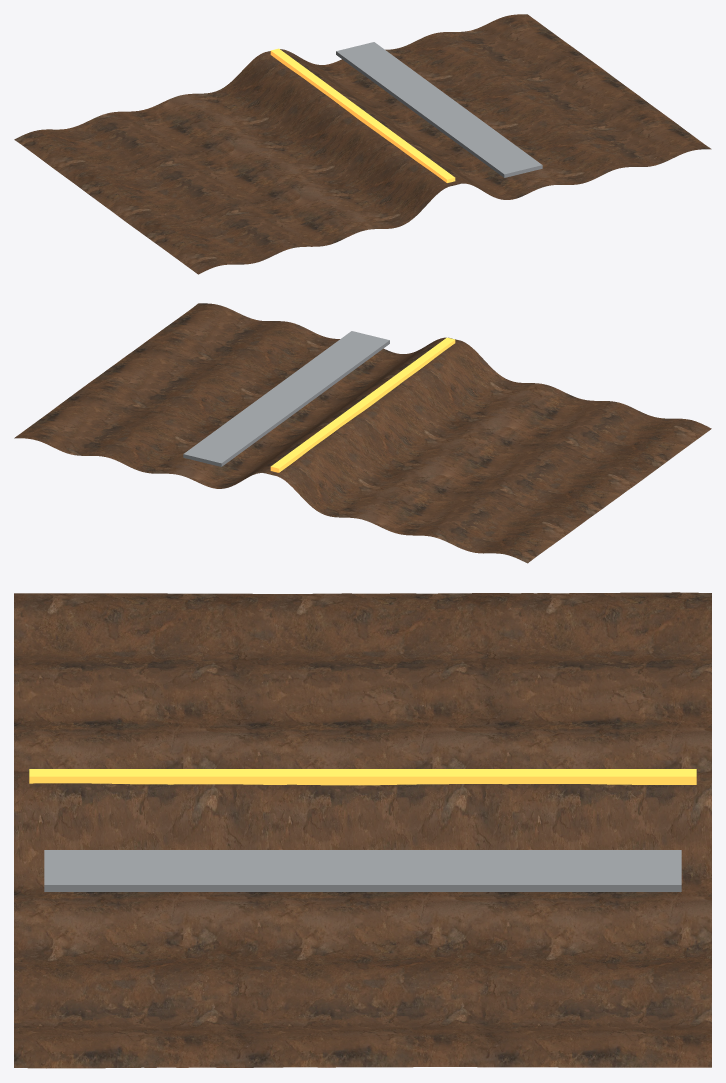
The model's file is seafloor-spreading.glb.
3 views of the same model, one above another, from view 1: azimuth 30°, elevation 25°; view 2: azimuth 150°, elevation 25°; view 3: azimuth 270°, elevation 25° (orthographic). The views are drawn at different scales.
Visible parts, largest first — view 1: Spread_Ridge, Spread_Stripe, Spread_Axis; view 2: Spread_Ridge, Spread_Stripe, Spread_Axis; view 3: Spread_Ridge, Spread_Stripe, Spread_Axis.
Part boxes in pixels (box(x1,y1,x2,y2)): Spread_Ridge: box(14, 14, 711, 274); Spread_Stripe: box(336, 42, 542, 177); Spread_Axis: box(270, 48, 455, 182); Spread_Ridge: box(14, 303, 711, 563); Spread_Stripe: box(183, 331, 389, 466); Spread_Axis: box(270, 337, 455, 472); Spread_Ridge: box(14, 592, 711, 1068); Spread_Stripe: box(44, 850, 681, 891); Spread_Axis: box(29, 769, 696, 785).
Size of the model in its own units: 7.4 by 0.4566 by 4.6.
Materials: 3 (1 with a texture image).
